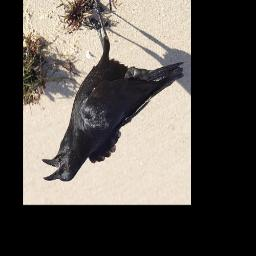Crow: (41, 0, 185, 183)
